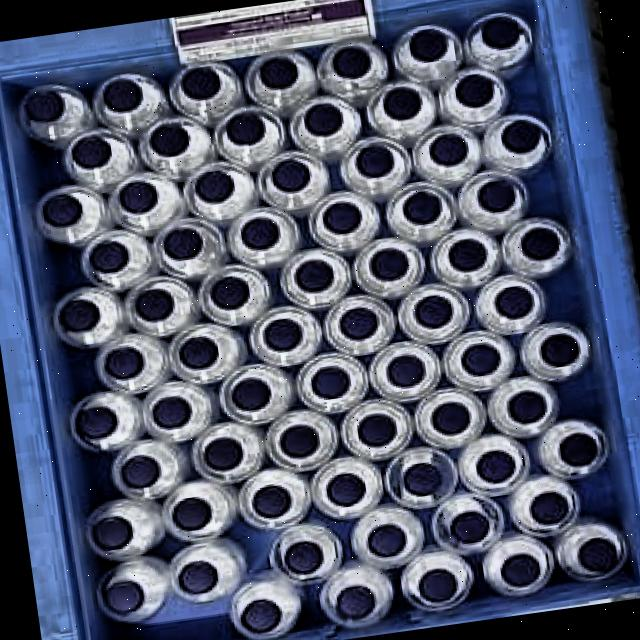vial: (332, 585, 380, 622), (291, 258, 336, 296), (417, 566, 461, 604), (208, 274, 252, 312), (192, 168, 236, 206), (90, 515, 135, 552), (230, 376, 275, 413), (88, 239, 134, 275), (133, 286, 176, 324), (148, 121, 191, 159), (320, 199, 364, 236), (39, 192, 83, 229), (384, 353, 429, 389), (410, 294, 455, 330), (499, 552, 542, 589), (278, 423, 321, 460), (177, 335, 221, 371), (402, 189, 442, 228), (240, 597, 281, 635), (577, 536, 619, 573), (120, 453, 162, 490), (460, 342, 503, 378), (309, 364, 352, 400), (151, 395, 194, 431), (270, 158, 313, 194), (500, 119, 543, 155), (366, 523, 410, 558), (355, 413, 399, 448), (446, 238, 490, 273), (162, 227, 206, 262), (70, 134, 114, 169), (58, 299, 103, 333), (431, 399, 472, 436), (204, 436, 245, 473), (325, 471, 367, 507), (250, 483, 292, 519), (402, 461, 444, 497), (475, 449, 517, 485), (177, 561, 220, 596), (506, 390, 549, 425), (539, 333, 582, 368), (104, 344, 147, 379), (338, 306, 381, 341), (368, 247, 411, 282), (116, 181, 160, 215), (494, 285, 535, 321), (304, 102, 345, 138), (262, 318, 304, 353), (331, 45, 373, 80), (454, 73, 496, 108), (556, 433, 599, 467), (76, 407, 119, 441), (477, 178, 517, 214), (104, 580, 145, 615), (172, 496, 213, 531), (519, 226, 560, 261), (239, 216, 280, 251), (179, 66, 221, 100), (428, 134, 471, 167), (285, 540, 325, 575), (259, 56, 299, 91), (383, 85, 423, 120), (450, 510, 491, 544), (530, 491, 571, 525), (103, 79, 144, 113), (409, 27, 448, 62), (227, 111, 267, 145), (25, 90, 65, 124), (355, 145, 396, 178), (480, 16, 521, 49)
